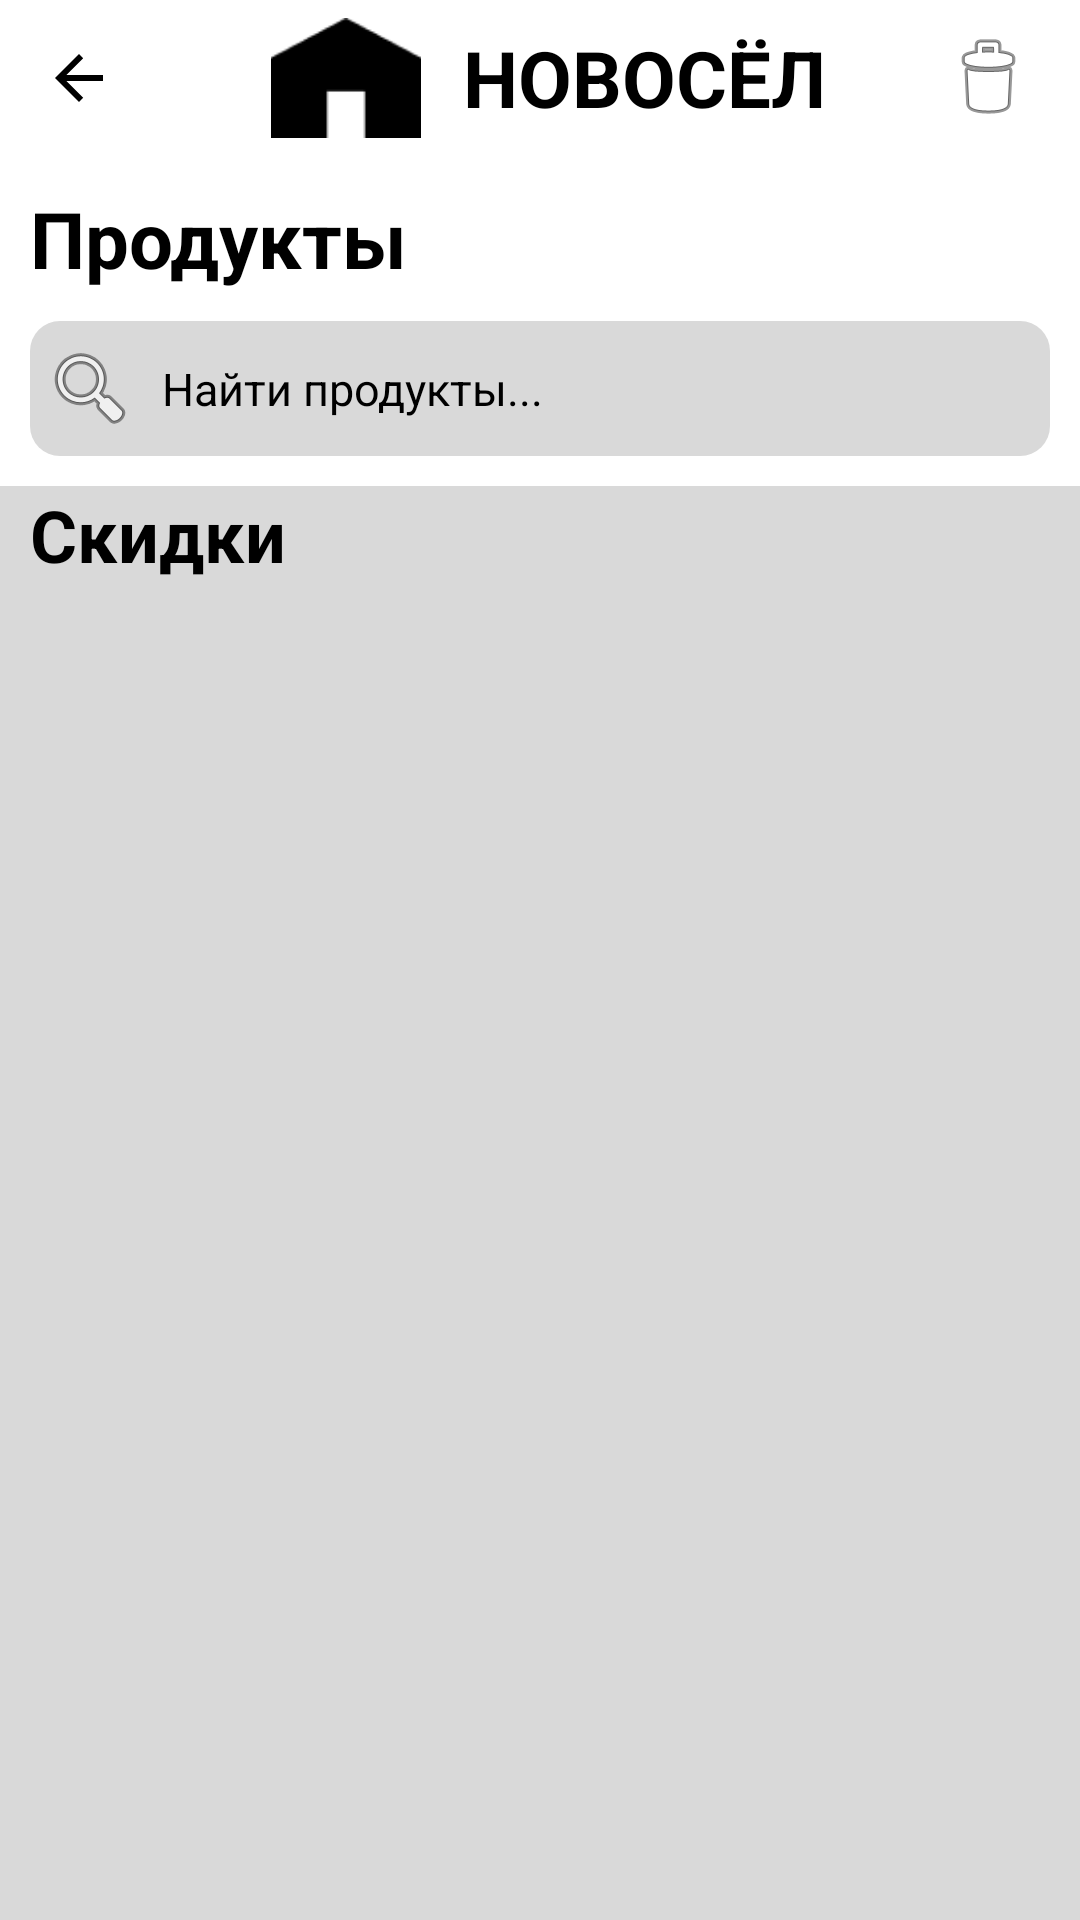

Icon click points for this 1080x1920 phone screenshot, format (x,y):
delete: (988,76)
